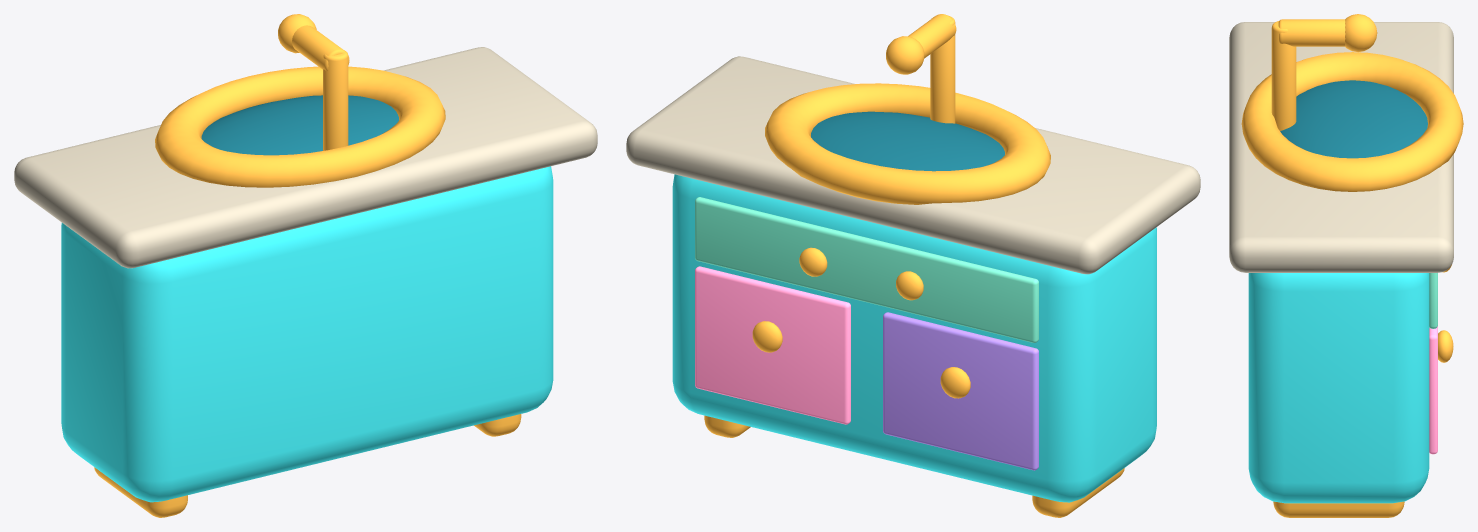
The model's file is BathroomVanitySink.fbx.
3 views of the same model, side by side, from view 1: azimuth 30°, elevation 25°; view 2: azimuth 150°, elevation 25°; view 3: azimuth 270°, elevation 25° (orthographic). The views are drawn at different scales.
Parts seen in each view (by area): view 1: BathroomVanitySink; view 2: BathroomVanitySink; view 3: BathroomVanitySink.
Boxes of the visible parts, x1,y1,x2,y2 form: BathroomVanitySink: (14, 14, 597, 517); BathroomVanitySink: (626, 14, 1200, 517); BathroomVanitySink: (1229, 14, 1463, 517).
Bounding box in the file's own units: 1.96 × 1.69 × 0.855.
